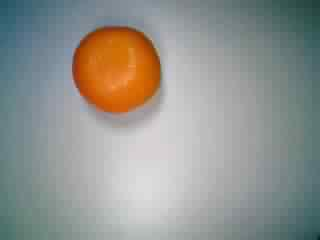orange: (69, 23, 164, 117)
